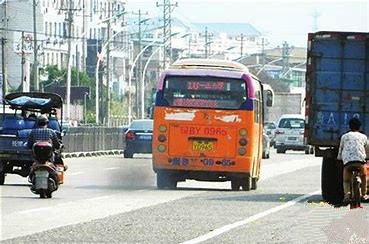smoke: (99, 164, 156, 193)
